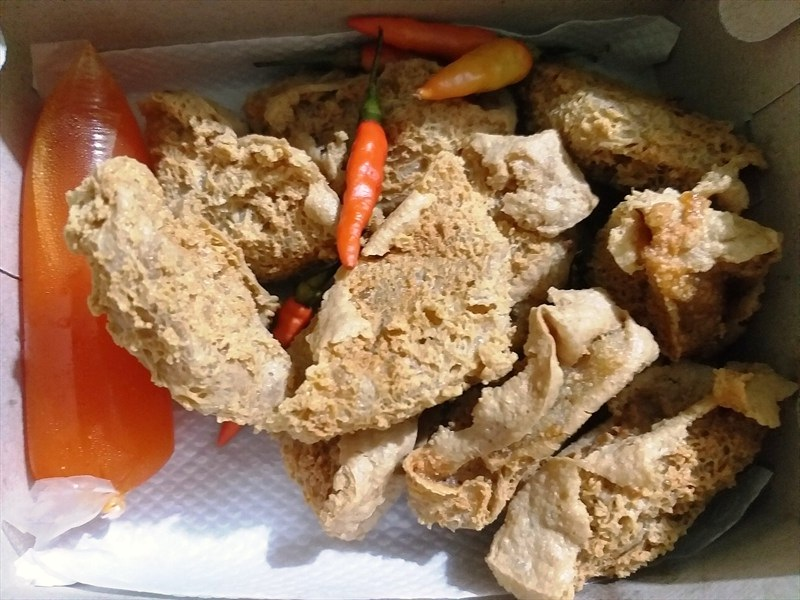Tahu Goreng: (102, 119, 693, 561)
